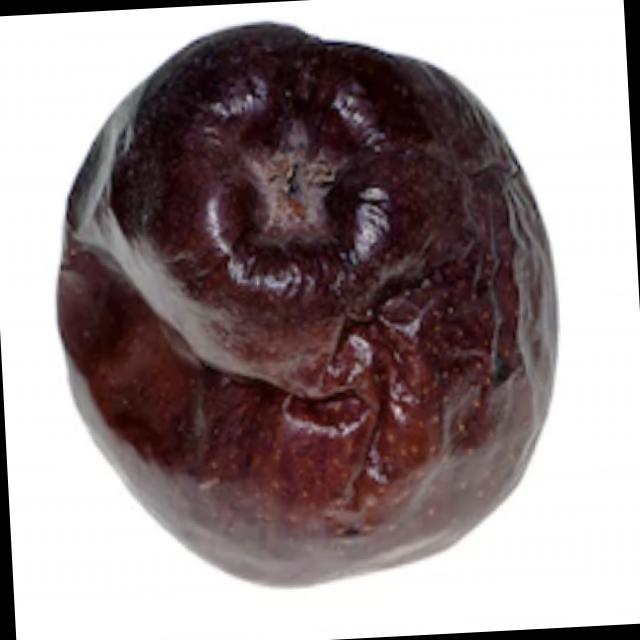rotten_apple: (48, 5, 574, 598)
